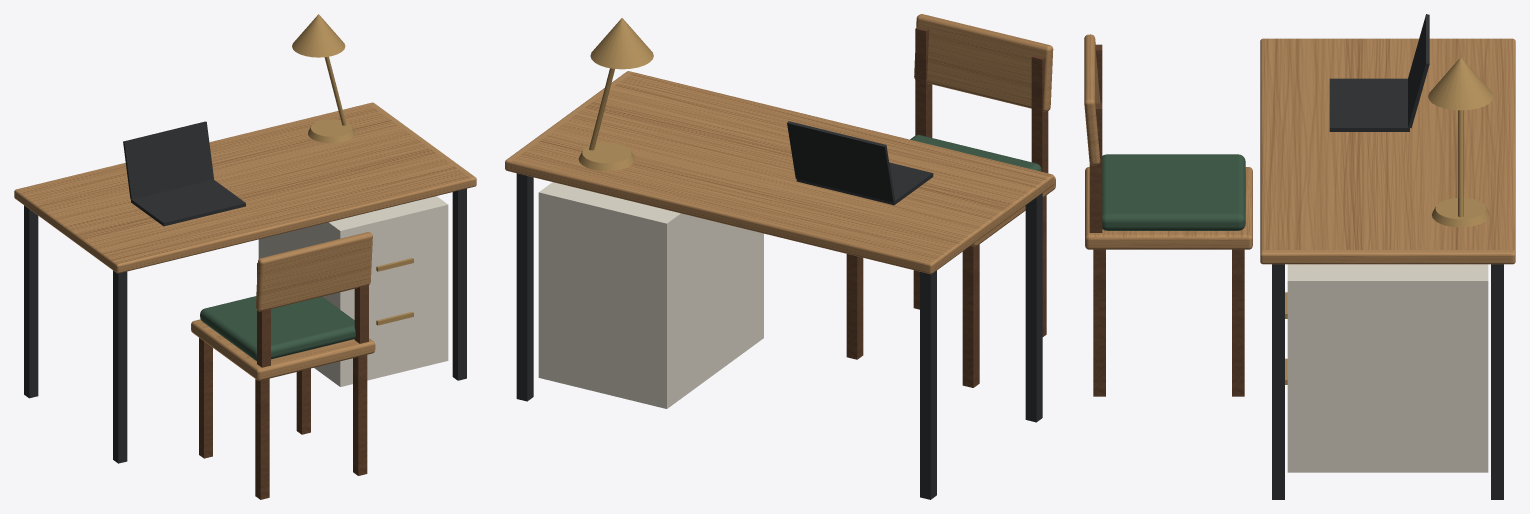
File: noi-that-ban-lam-viec.glb
The picture shows the model from 3 angles, left to right: view 1: azimuth 30°, elevation 25°; view 2: azimuth 150°, elevation 25°; view 3: azimuth 270°, elevation 25°; orthographic projection. The views are drawn at different scales.
Size of the model in its own units: 1.4 by 1.21 by 1.18.
6 materials, 2 textured.
